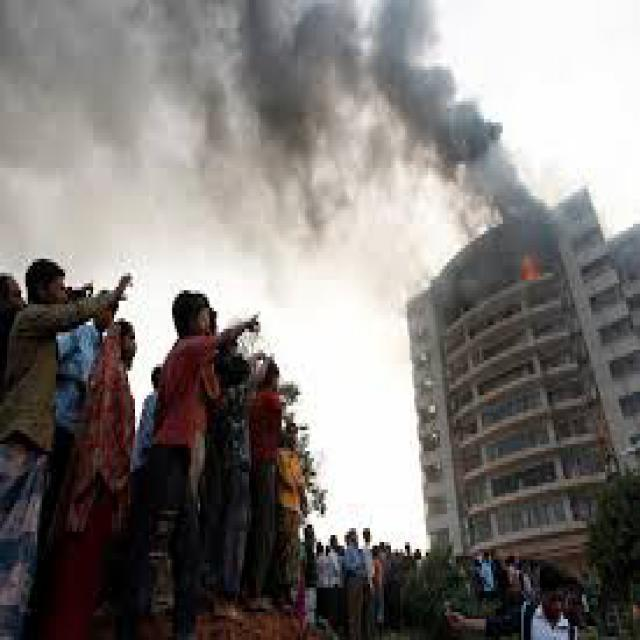Fire: (521, 252, 554, 291)
Smoke: (0, 0, 551, 214)
